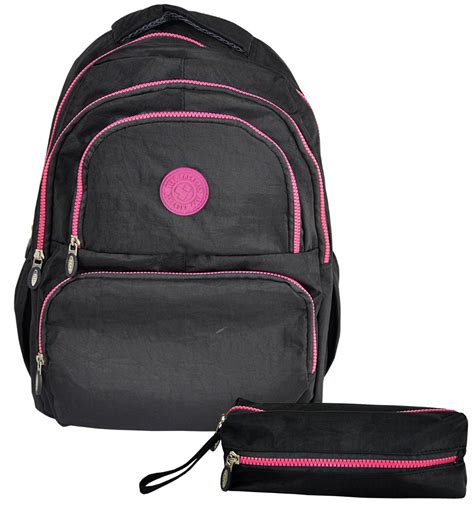nylon: (15, 4, 468, 500)
